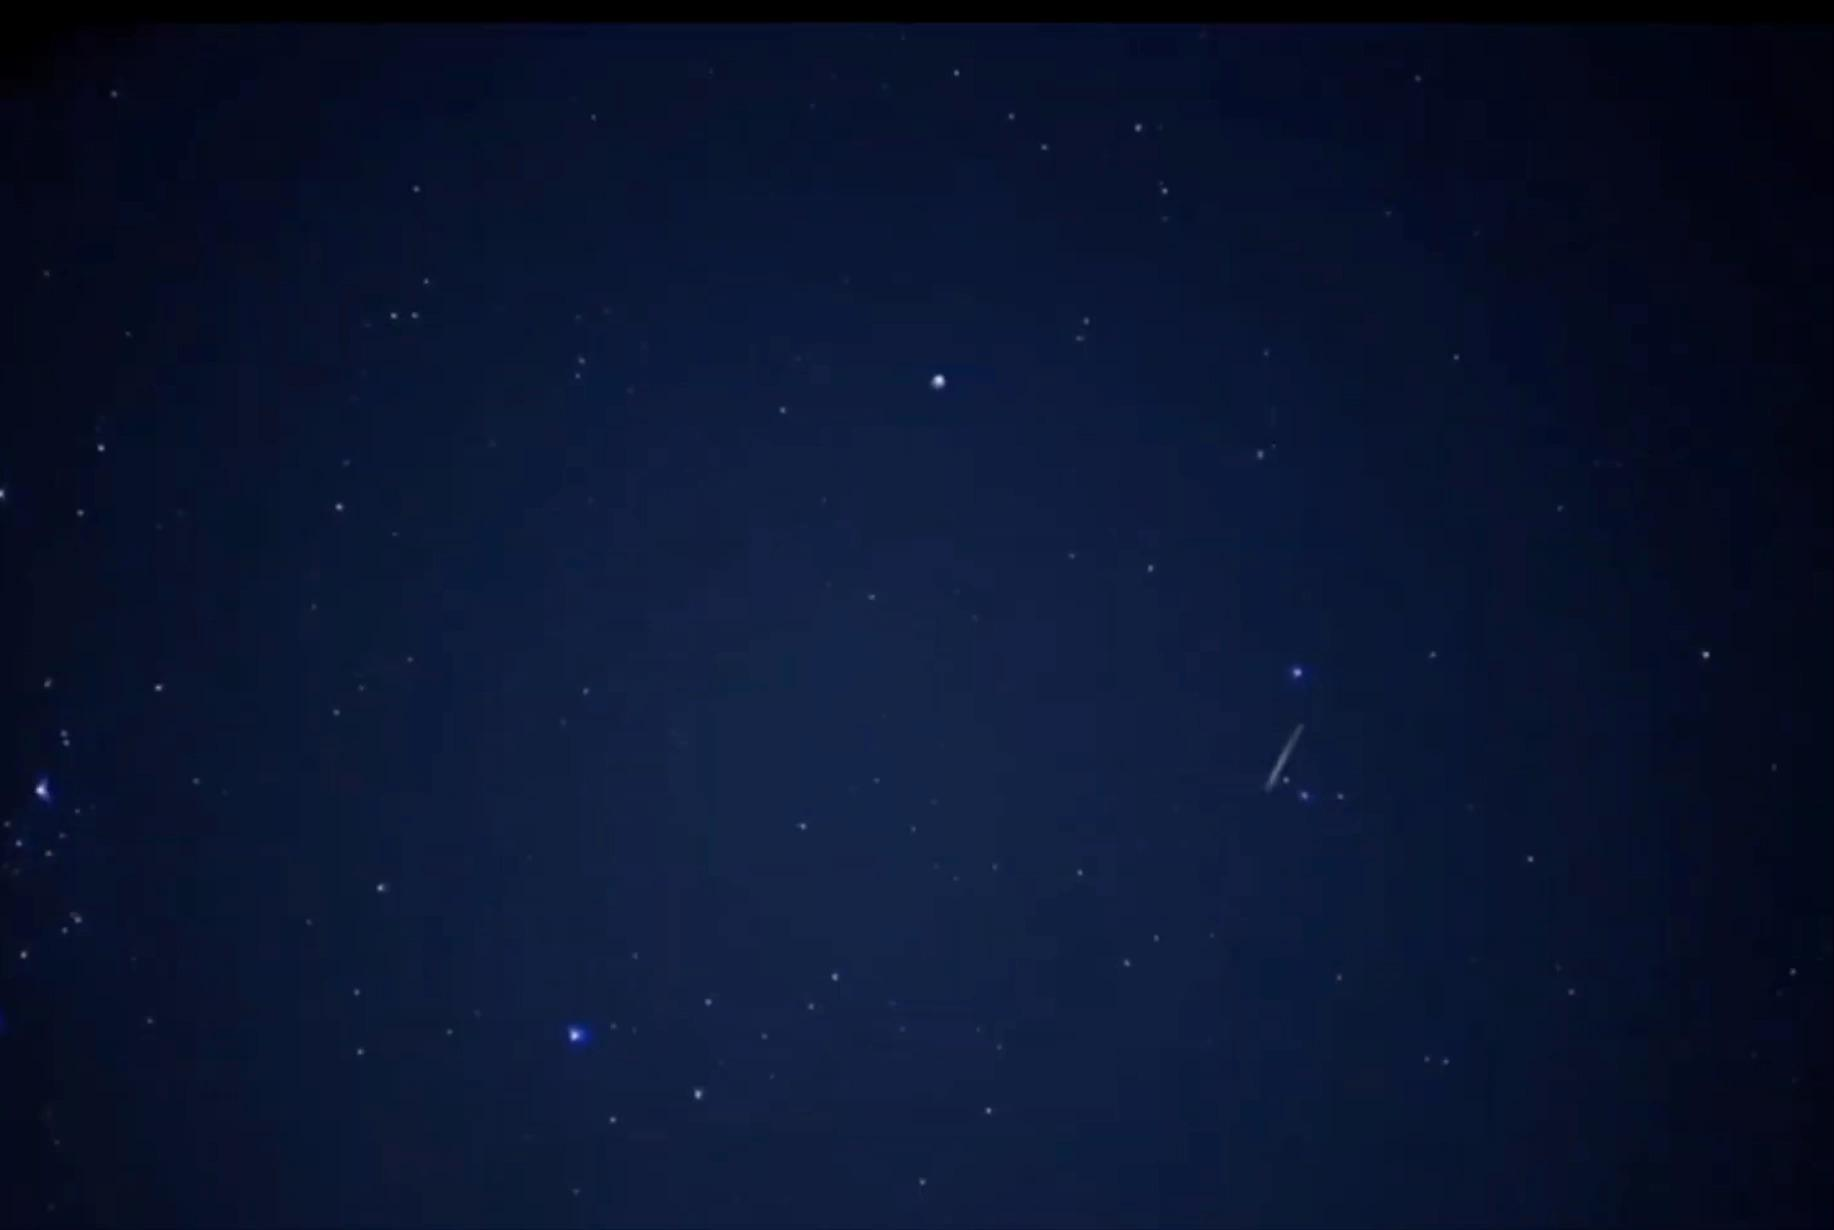meteorite: (1201, 710, 1367, 798)
